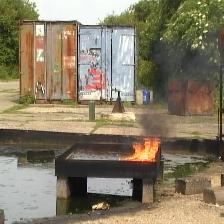fire: (120, 135, 161, 161)
